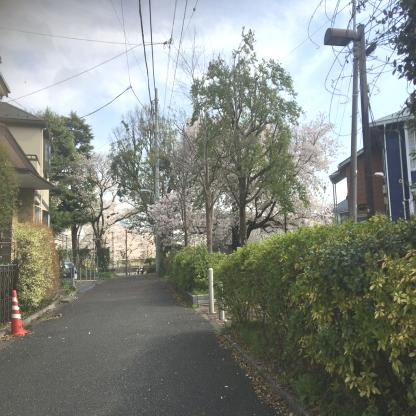Someiyoshino: (145, 104, 345, 252), (66, 146, 157, 266)
